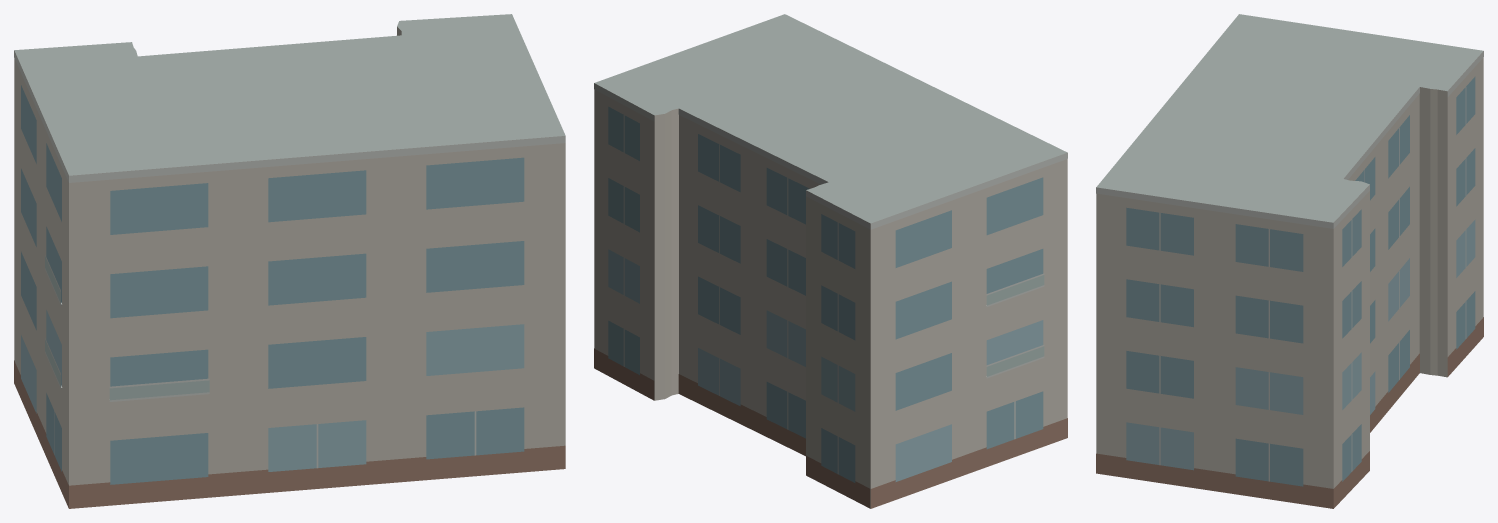
Rendered from survey-upis-32852679.glb.
The picture shows the model from 3 angles, left to right: view 1: azimuth 30°, elevation 25°; view 2: azimuth 150°, elevation 25°; view 3: azimuth 270°, elevation 25°; orthographic projection. The views are drawn at different scales.
Parts seen in each view (by area): view 1: survey-upis-32852679.tmp; view 2: survey-upis-32852679.tmp; view 3: survey-upis-32852679.tmp.
Boxes of the visible parts, x1,y1,x2,y2 form: survey-upis-32852679.tmp: (14,14,565,508); survey-upis-32852679.tmp: (594,14,1067,508); survey-upis-32852679.tmp: (1096,14,1483,508).
Size of the model in its own units: 17.53 by 11.2 by 13.76.
